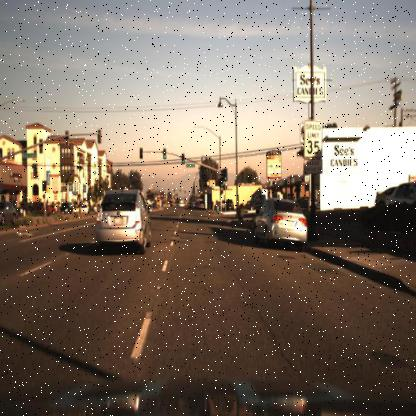car: (91, 183, 154, 259), (250, 193, 310, 254), (54, 198, 76, 218), (45, 197, 60, 217), (38, 202, 56, 218), (58, 199, 74, 216)
trafficLight-Green: (223, 166, 230, 184), (162, 146, 168, 164), (161, 150, 168, 162), (179, 155, 185, 167), (181, 153, 186, 166), (223, 173, 228, 184), (219, 180, 223, 192)
